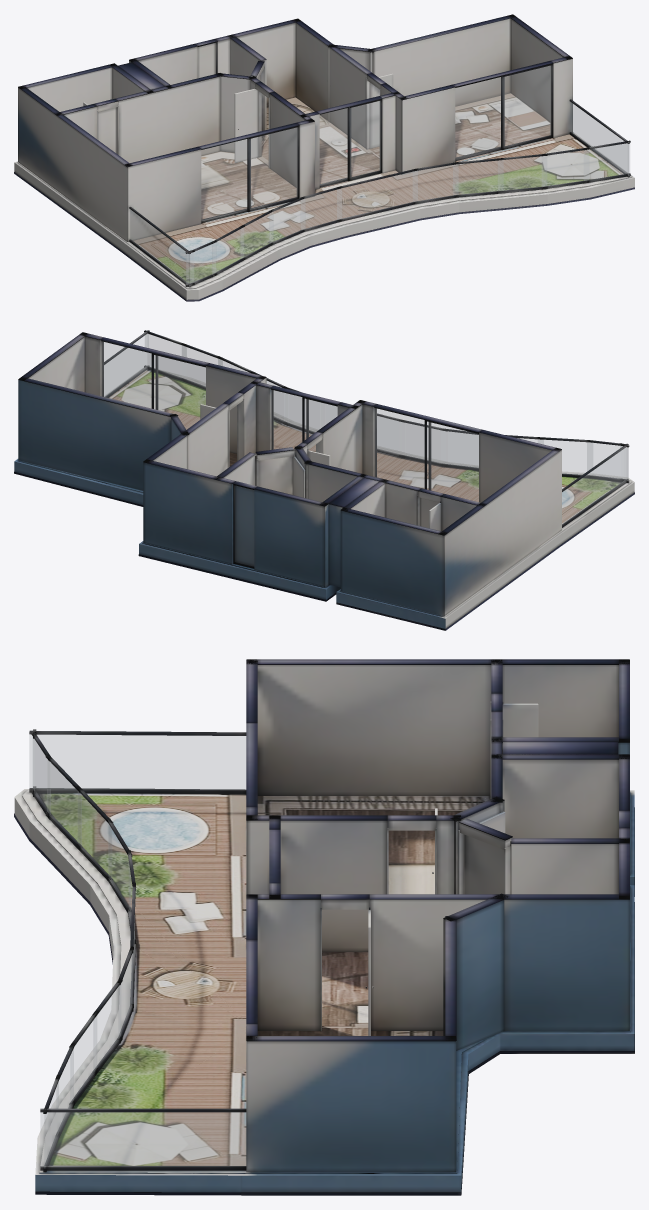
3 renders of one model, top to bottom at view 1: azimuth 30°, elevation 25°; view 2: azimuth 150°, elevation 25°; view 3: azimuth 270°, elevation 25°, orthographic. The views are drawn at different scales.
Visible parts, largest first — view 1: plan, glass0_m, glass2_m, glass1_m, railg6_m, railg13_m, railg0_m, railg5_m, railg4_m, railg3_m, railg1_m, railg2_m (+5 smaller); view 2: plan, glass0_m, glass2_m, glass1_m, railg13_m, glass3_m, railg0_m, railg10_m, railg8_m, railg11_m, railg7_m, railg6_m (+3 smaller); view 3: plan, railg0_m, railg13_m, railg10_m, railg9_m, railg5_m, railg4_m, railg8_m, railg11_m, railg3_m, railg1_m.
Boxes of the visible parts, box(x1,y1,x2,y2) form: plan: box(14, 14, 634, 301); glass0_m: box(201, 128, 297, 220); glass2_m: box(455, 66, 550, 158); glass1_m: box(320, 101, 380, 185); railg6_m: box(337, 171, 417, 219); railg13_m: box(130, 209, 189, 284); railg0_m: box(570, 102, 628, 174); railg5_m: box(453, 160, 503, 195); railg4_m: box(498, 156, 546, 190); railg3_m: box(542, 150, 588, 186); railg1_m: box(413, 164, 458, 201); railg2_m: box(584, 143, 629, 180); plan: box(14, 330, 634, 630); glass0_m: box(375, 408, 478, 501); glass2_m: box(102, 342, 205, 429); glass1_m: box(272, 390, 337, 451); railg13_m: box(562, 447, 627, 524); glass3_m: box(235, 486, 253, 565); railg0_m: box(104, 334, 148, 396); railg10_m: box(538, 439, 592, 474); railg8_m: box(448, 432, 478, 467); railg11_m: box(587, 442, 622, 478); railg7_m: box(406, 423, 446, 463); railg6_m: box(320, 403, 399, 453); plan: box(14, 659, 634, 1195); railg0_m: box(40, 1112, 245, 1166); railg13_m: box(29, 734, 245, 789); railg10_m: box(47, 759, 81, 846); railg9_m: box(78, 791, 111, 878); railg5_m: box(93, 985, 120, 1071); railg4_m: box(71, 1016, 96, 1102); railg8_m: box(108, 824, 130, 910); railg11_m: box(33, 739, 50, 815); railg3_m: box(56, 1049, 73, 1129); railg1_m: box(118, 954, 132, 1039).
Size of the model in its own units: 14.24 by 2.62 by 9.66.
Materials: 2 (1 with a texture image).
